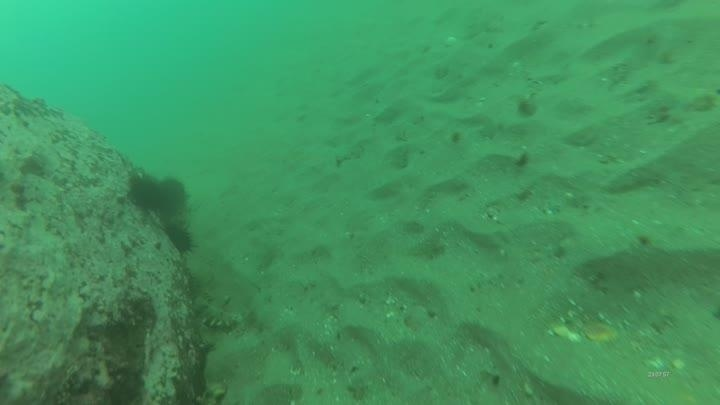echinus: (125, 172, 168, 214), (153, 175, 191, 217), (160, 219, 197, 257)
holothurian: (190, 291, 246, 334)
